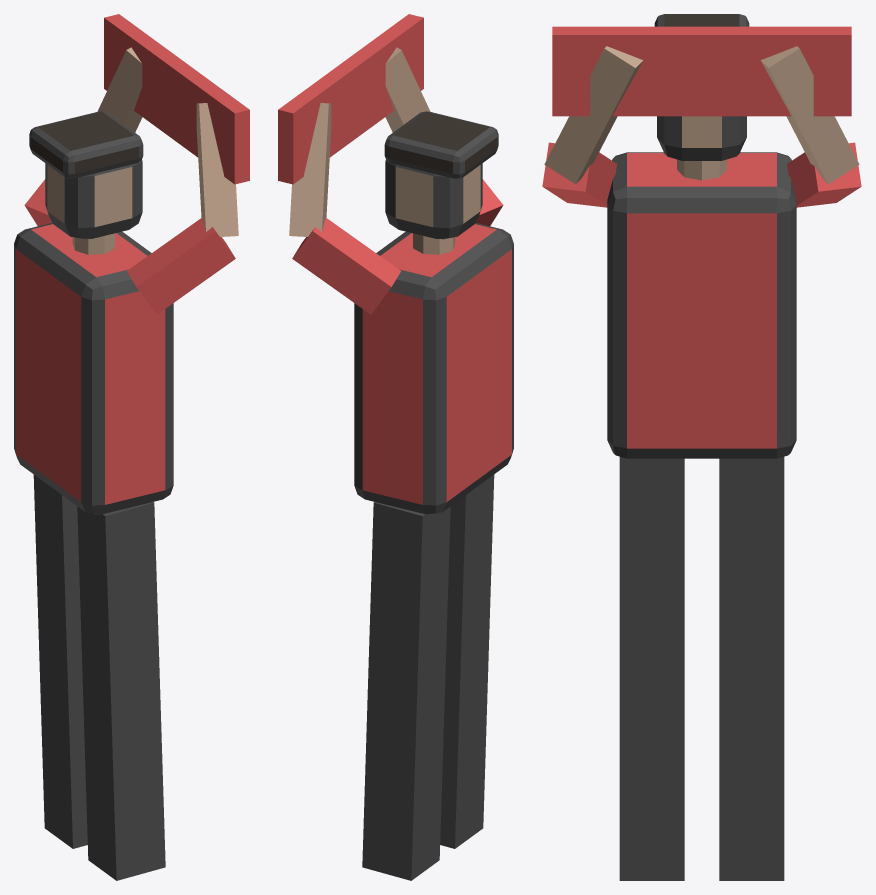
Rendered from SM_CrowdScarf.fbx.
3 renders of one model, left to right at view 1: azimuth 30°, elevation 25°; view 2: azimuth 150°, elevation 25°; view 3: azimuth 270°, elevation 25°, orthographic. The views are drawn at different scales.
Parts seen in each view (by area): view 1: SM_CrowdScarf; view 2: SM_CrowdScarf; view 3: SM_CrowdScarf.
Part boxes in pixels (x1,y1,x2,y2): SM_CrowdScarf: [14, 14, 249, 880]; SM_CrowdScarf: [278, 14, 513, 880]; SM_CrowdScarf: [542, 14, 861, 880].
Size of the model in its own units: 0.4027 by 1.94 by 0.6397.
